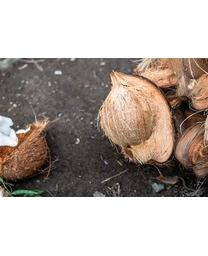coconut: (98, 70, 175, 164), (4, 122, 49, 178)
